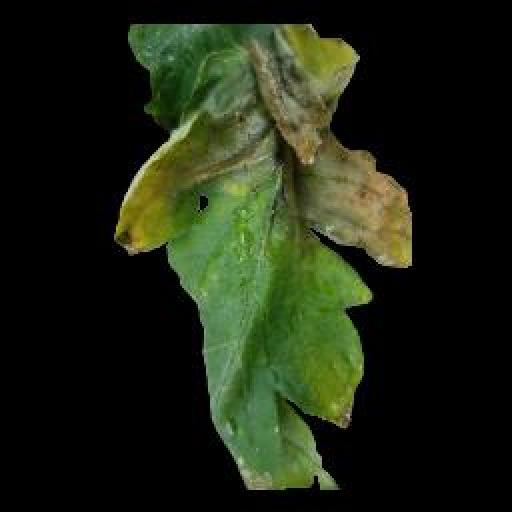Late Blight: (110, 24, 414, 491)
